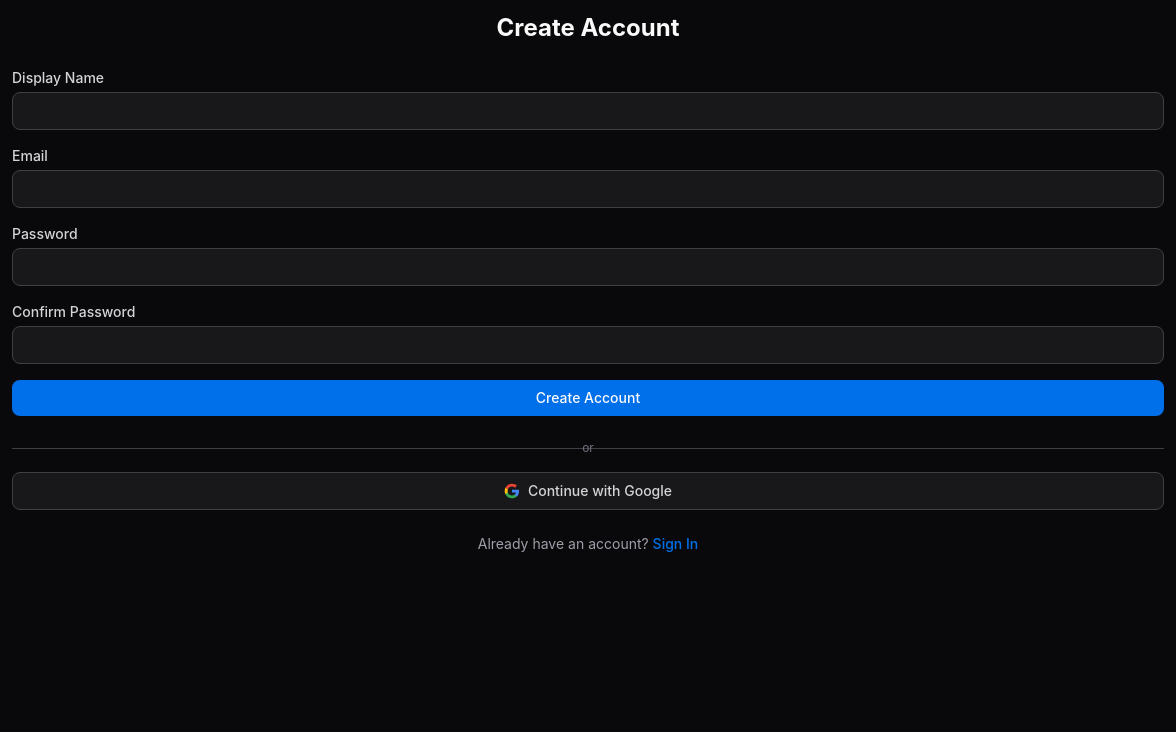
Test: RegisterPage › should show success message after successful registration
Step 1. Type "Test" into the field with id "name" → (588, 111), box [12,92,1164,130]
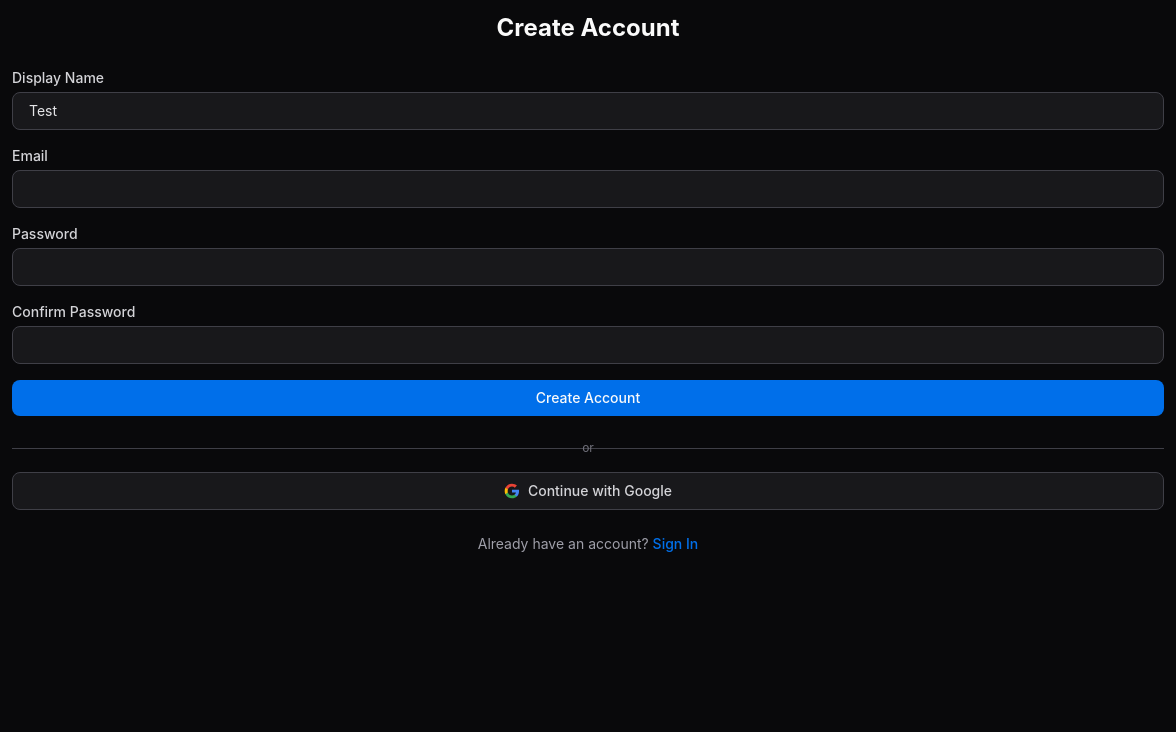
Step 2. Type "test@example.com" into the field with id "email" → (588, 189), box [12,170,1164,208]
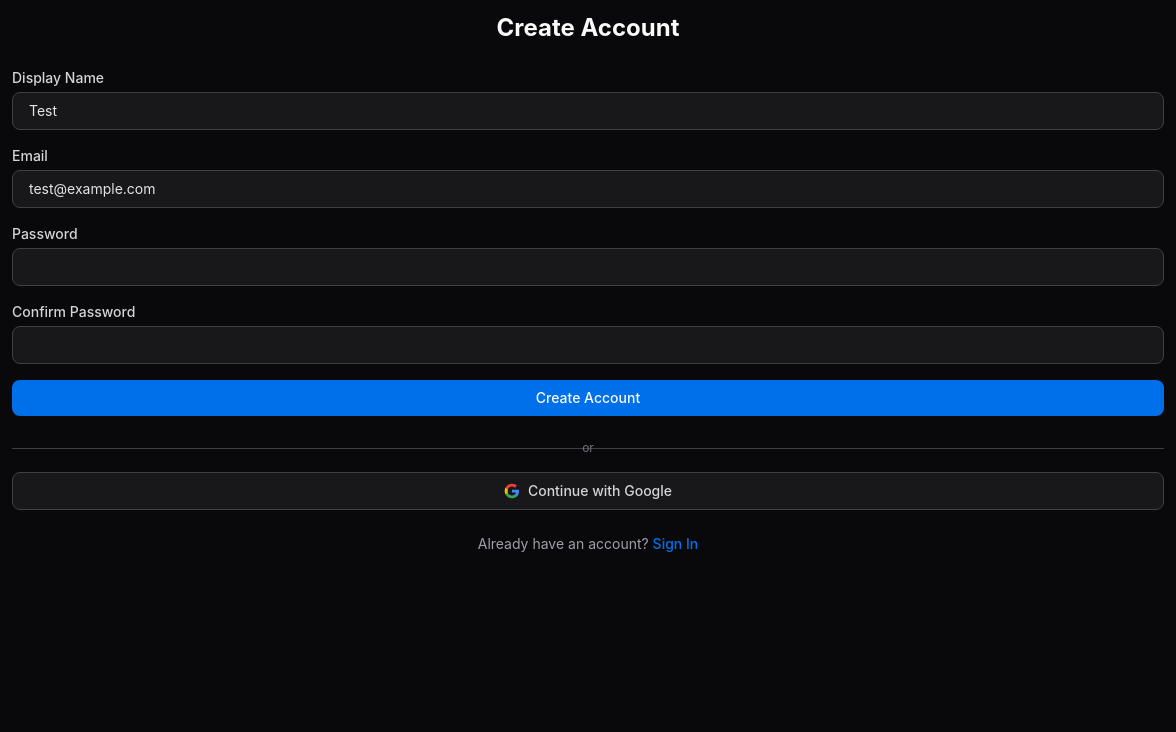
Step 3. Type "securepass" into the password field labelled "Password" → (588, 267), box [12,248,1164,286]
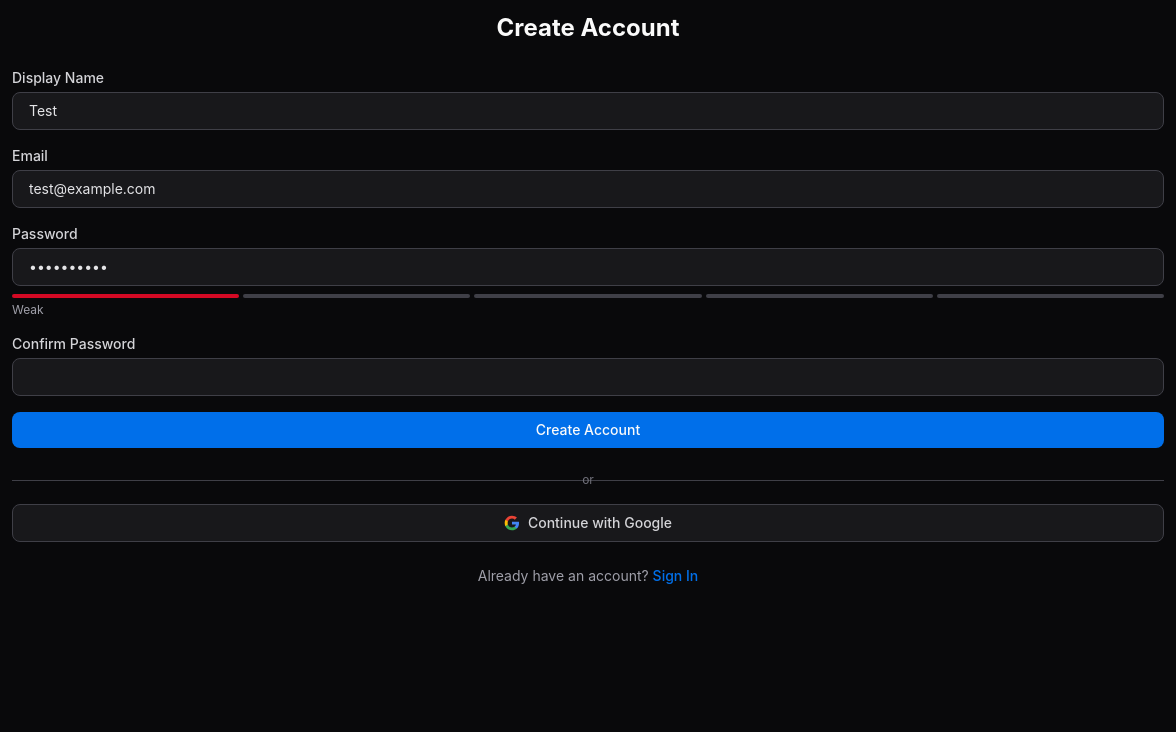
Step 4. Type "securepass" into the password field with id "confirmPassword" → (588, 377), box [12,358,1164,396]
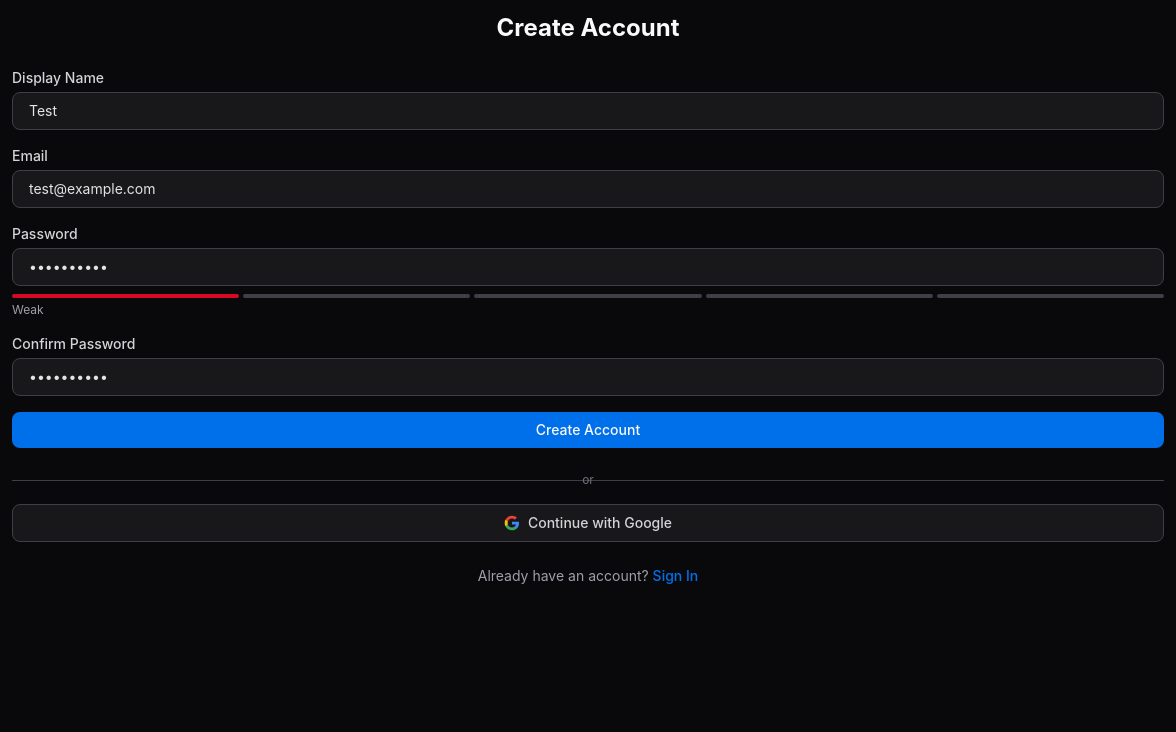
Step 5. Submit the form, box [12,68,1164,448]
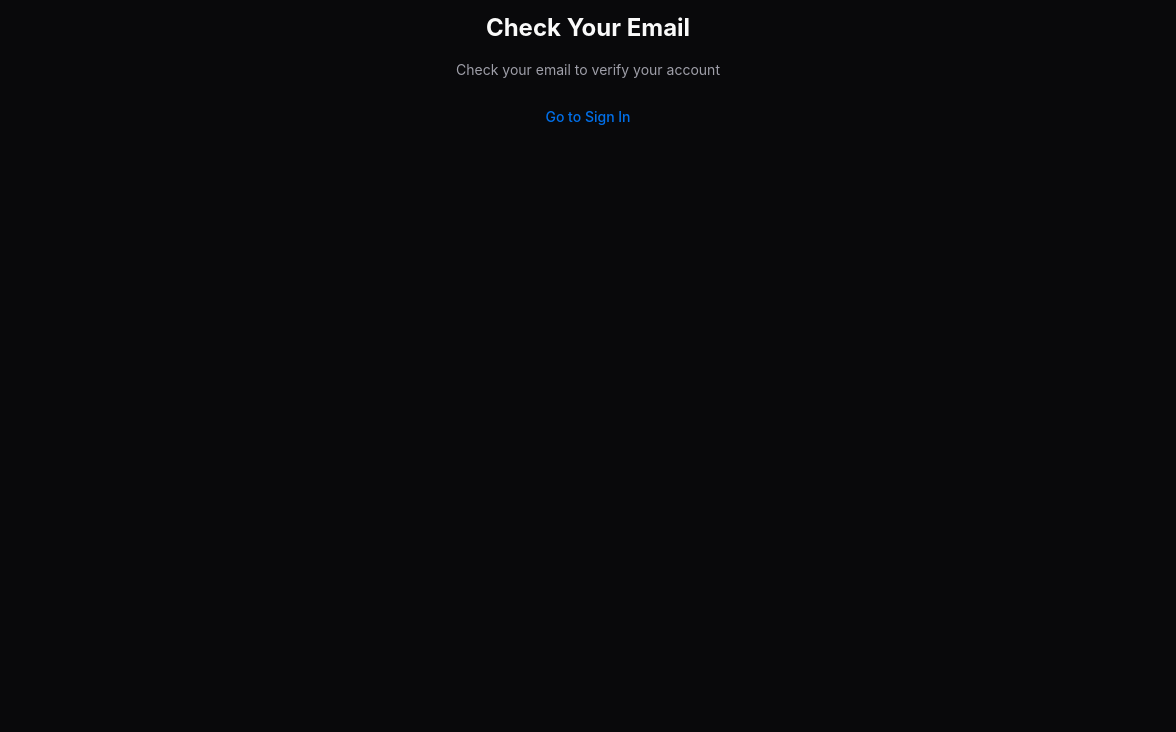
Check: the text "Check your email to verify your account" is shown, box [456,61,720,78]
